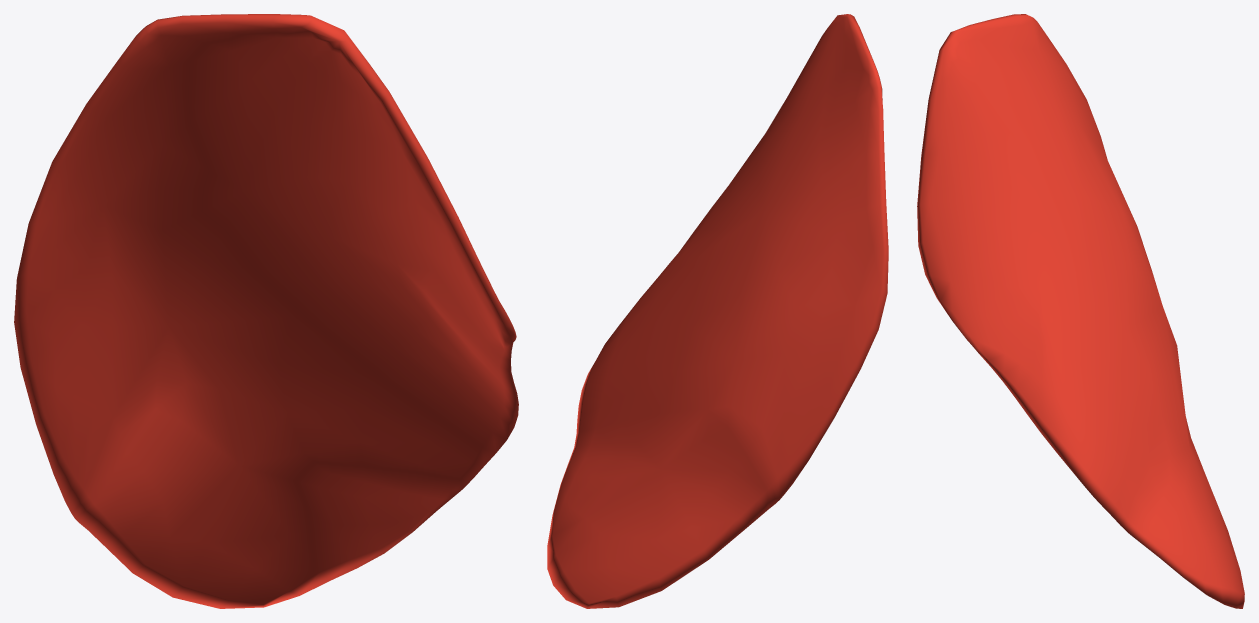
File: Gastrocnemius_medial_head_supracondylar_tubercle_right.glb
3 views of the same model, side by side, from view 1: azimuth 30°, elevation 25°; view 2: azimuth 150°, elevation 25°; view 3: azimuth 270°, elevation 25° (orthographic). The views are drawn at different scales.
Visible parts, largest first — view 1: Medial_head_of_gastrocnemius_on_med._supracondylar_tubercle.; view 2: Medial_head_of_gastrocnemius_on_med._supracondylar_tubercle.; view 3: Medial_head_of_gastrocnemius_on_med._supracondylar_tubercle..
Part boxes in pixels (x1,y1,x2,y2): Medial_head_of_gastrocnemius_on_med._supracondylar_tubercle.: (14,14,518,608); Medial_head_of_gastrocnemius_on_med._supracondylar_tubercle.: (547,14,888,608); Medial_head_of_gastrocnemius_on_med._supracondylar_tubercle.: (917,14,1244,608).
Bounding box in the file's own units: 0.0166 × 0.0264 × 0.0153.
